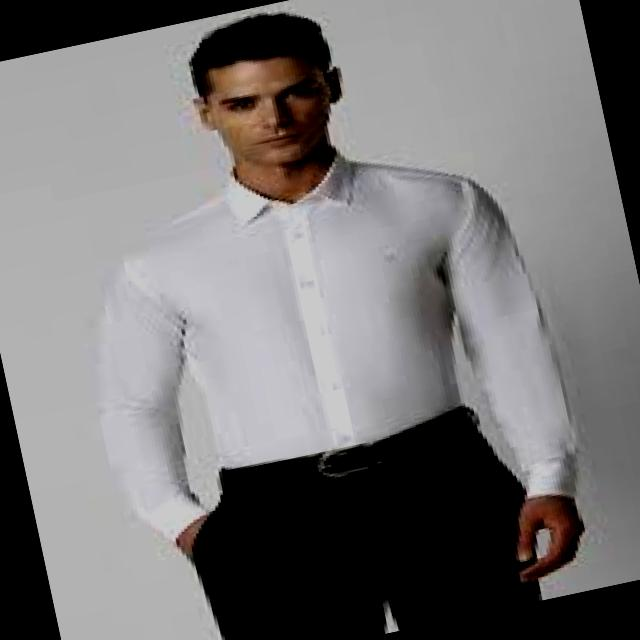face: (194, 53, 342, 168)
lower-wear: (192, 427, 542, 639)
top-wear: (96, 150, 579, 539)
